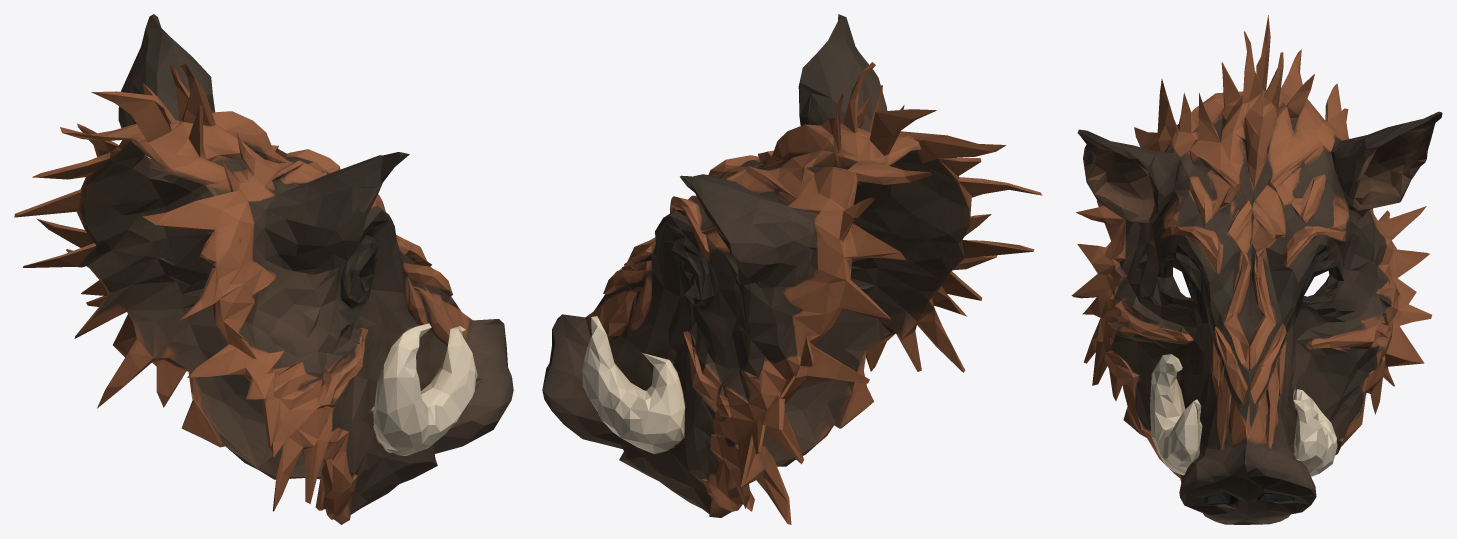
The model's file is boar.glb.
3 renders of one model, left to right at view 1: azimuth 30°, elevation 25°; view 2: azimuth 150°, elevation 25°; view 3: azimuth 270°, elevation 25°, orthographic. The views are drawn at different scales.
Parts seen in each view (by area): view 1: tripo_node_b47bac30-affe-4645-b86b-6175e04eb798; view 2: tripo_node_b47bac30-affe-4645-b86b-6175e04eb798; view 3: tripo_node_b47bac30-affe-4645-b86b-6175e04eb798.
Part boxes in pixels (<box>): tripo_node_b47bac30-affe-4645-b86b-6175e04eb798: <box>14,14,513,524</box>; tripo_node_b47bac30-affe-4645-b86b-6175e04eb798: <box>542,14,1042,524</box>; tripo_node_b47bac30-affe-4645-b86b-6175e04eb798: <box>1071,15,1442,524</box>.
Size of the model in its own units: 0.9241 by 1 by 0.8148.
1 material, 1 textured.
